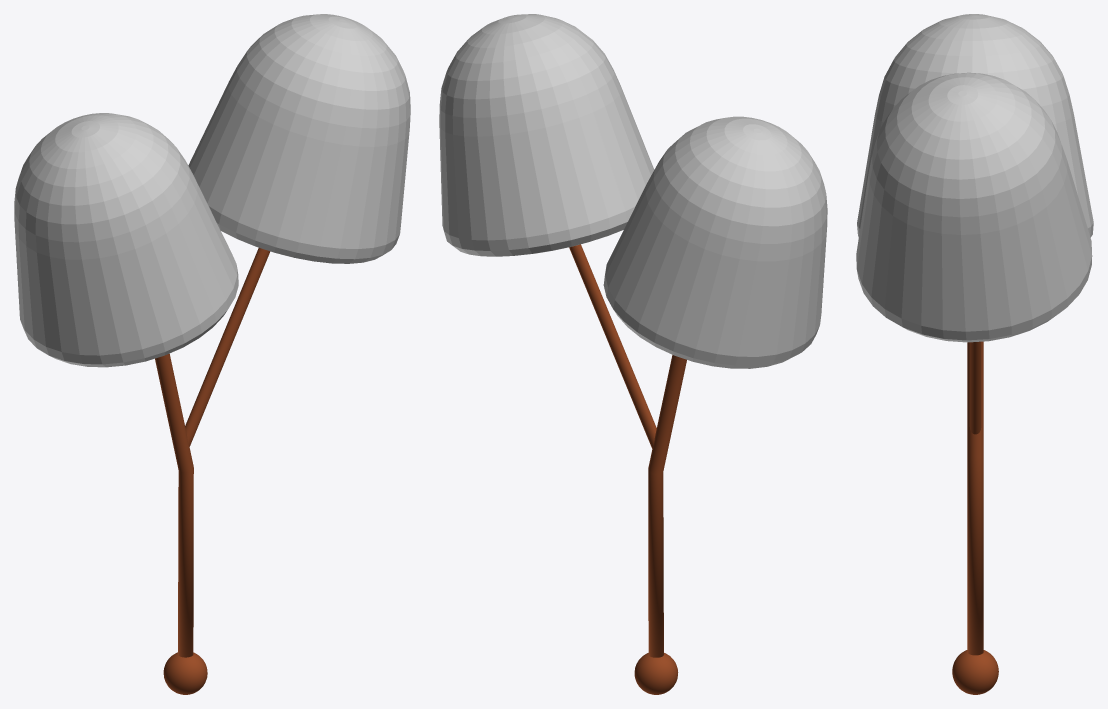
The model's file is gumdroptree.obj.
3 views of the same model, side by side, from view 1: azimuth 30°, elevation 25°; view 2: azimuth 150°, elevation 25°; view 3: azimuth 270°, elevation 25° (orthographic). The views are drawn at different scales.
Parts seen in each view (by area): view 1: Gumdrop.007, Gumdrop.001, Cube.015; view 2: Gumdrop.007, Gumdrop.001, Cube.015; view 3: Gumdrop.001, Gumdrop.007, Cube.015.
Boxes of the visible parts, x1,y1,x2,y2 form: Gumdrop.007: [14, 113, 238, 367]; Gumdrop.001: [188, 14, 410, 263]; Cube.015: [155, 248, 270, 694]; Gumdrop.007: [603, 116, 827, 368]; Gumdrop.001: [439, 14, 654, 256]; Cube.015: [569, 244, 686, 694]; Gumdrop.001: [856, 72, 1092, 342]; Gumdrop.007: [857, 14, 1093, 237]; Cube.015: [952, 341, 998, 694].
Size of the model in its own units: 12.37 by 20.54 by 6.51.
